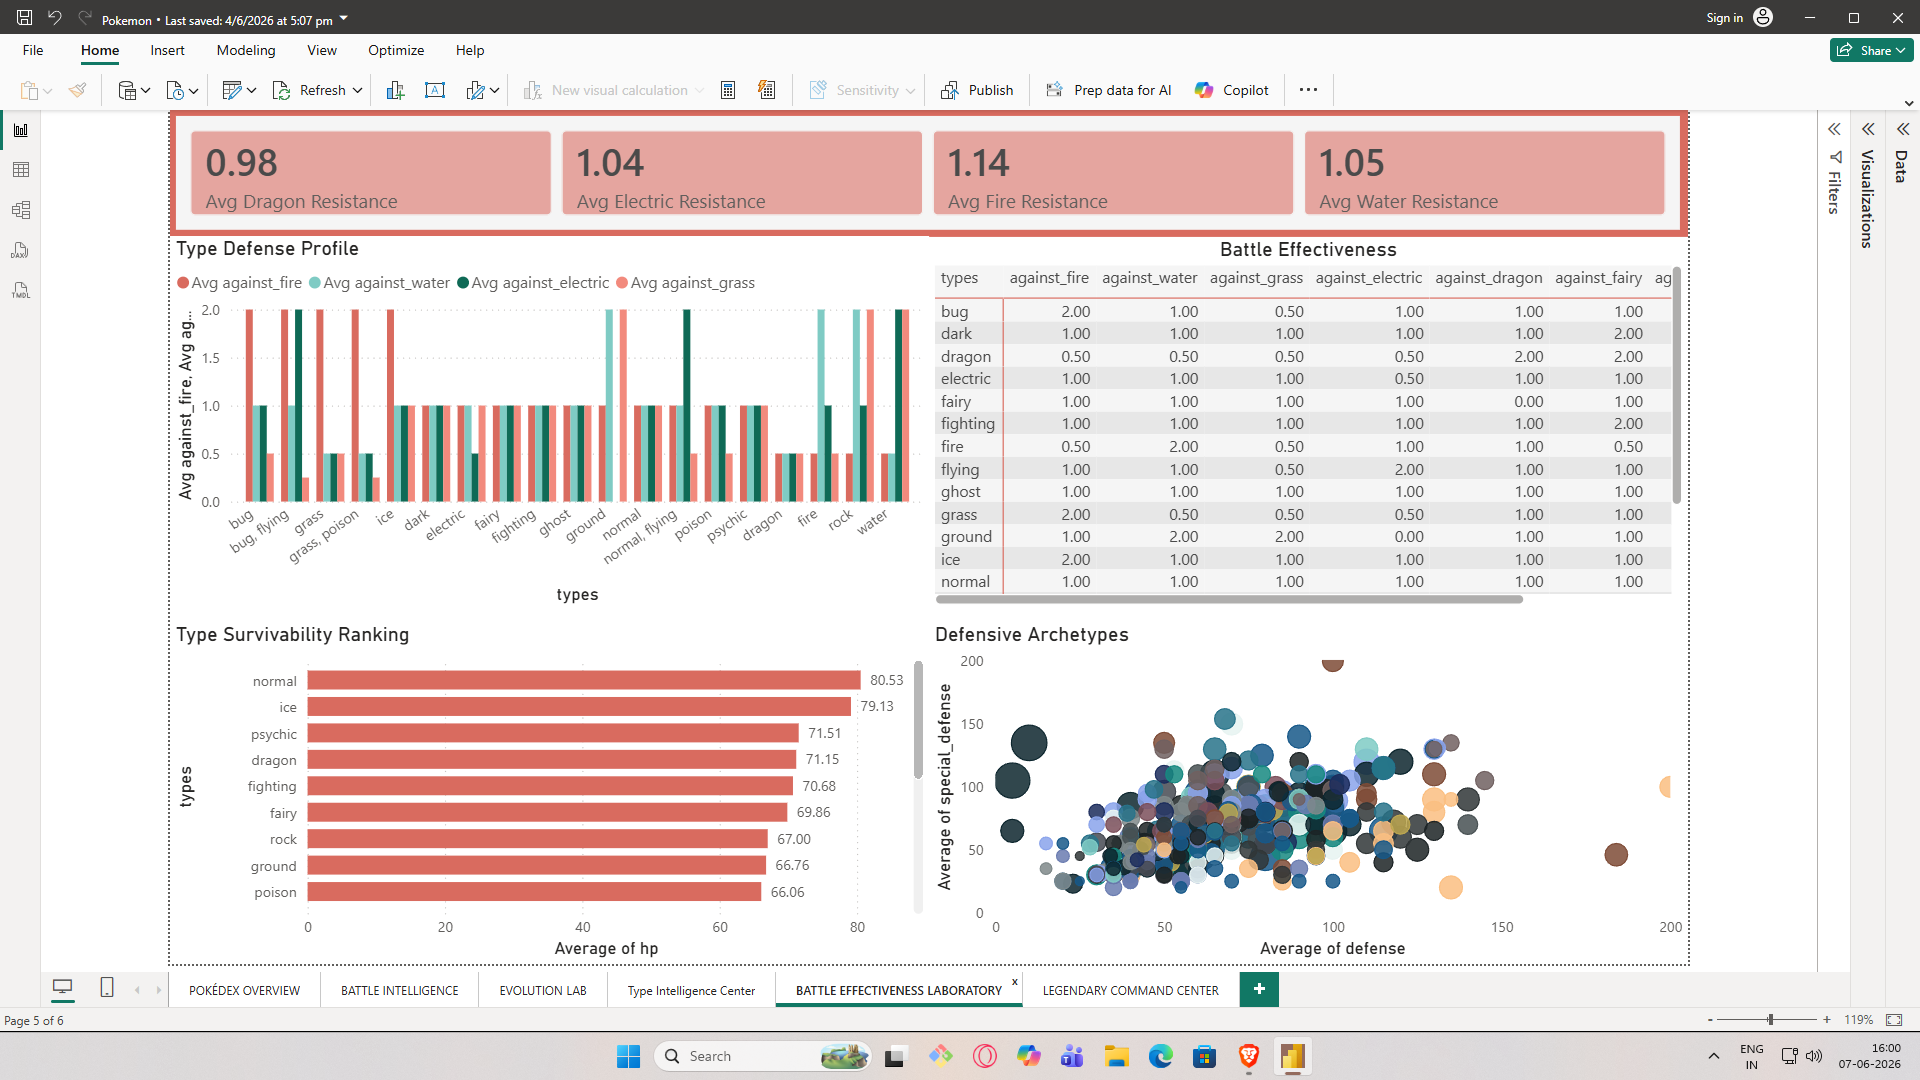

What the dashboard file says about the page in this screenshot:
{"tool":"powerbi","page":{"name":"BATTLE EFFECTIVENESS LABORATORY","canvas":[1280,720],"ordinal":4},"visuals":[{"type":"cardVisual","fields":{"Data":["Pokemon.Avg Dragon Resistance","Pokemon.Avg Electric Resistance","Pokemon.Avg Fire Resistance","Pokemon.Avg Water Resistance"]},"box":[0,0,1279.7,106.6],"z":0},{"type":"clusteredColumnChart","title":"Type Defense Profile","fields":{"Category":["Pokemon.types"],"Y":["Avg(Pokemon.against_fire)","Avg(Pokemon.against_water)","Avg(Pokemon.against_electric)","Avg(Pokemon.against_grass)"]},"box":[0,106.6,640.3,315.2],"z":1000},{"type":"clusteredBarChart","title":"Type Survivability Ranking","fields":{"Category":["Pokemon.types"],"Y":["Avg(Pokemon.hp)"]},"box":[0,432,640,288],"z":2000},{"type":"pivotTable","title":"Battle Effectiveness","fields":{"Rows":["Pokemon.types"],"Values":["Avg(Pokemon.against_fire)","Avg(Pokemon.against_water)","Avg(Pokemon.against_grass)","Avg(Pokemon.against_electric)","Avg(Pokemon.against_dragon)","Avg(Pokemon.against_fairy)","Avg(Pokemon.against_dark)","Avg(Pokemon.against_ice)"]},"box":[640,107,640,315],"z":3000},{"type":"scatterChart","title":"Defensive Archetypes","fields":{"X":["Avg(Pokemon.defense)"],"Y":["Avg(Pokemon.special_defense)"],"Size":["Sum(Pokemon.hp)"],"Category":["Pokemon.name"],"Series":["Pokemon.types"]},"box":[640,432,640,288],"z":4000}]}

Visuals, with their boxes on the page's 1280x720 design canvas (x1, y1, x2, y2). These are canvas units, not pixel positions in the 1920x1080 screenshot, which may show the page scaled, cropped or inside an application window:
cardVisual - Pokemon.Avg Dragon Resistance x Pokemon.Avg Electric Resistance: 0,0,1280,107
"Type Defense Profile" clusteredColumnChart: 0,107,640,422
"Type Survivability Ranking" clusteredBarChart: 0,432,640,720
"Battle Effectiveness" pivotTable: 640,107,1280,422
"Defensive Archetypes" scatterChart: 640,432,1280,720
